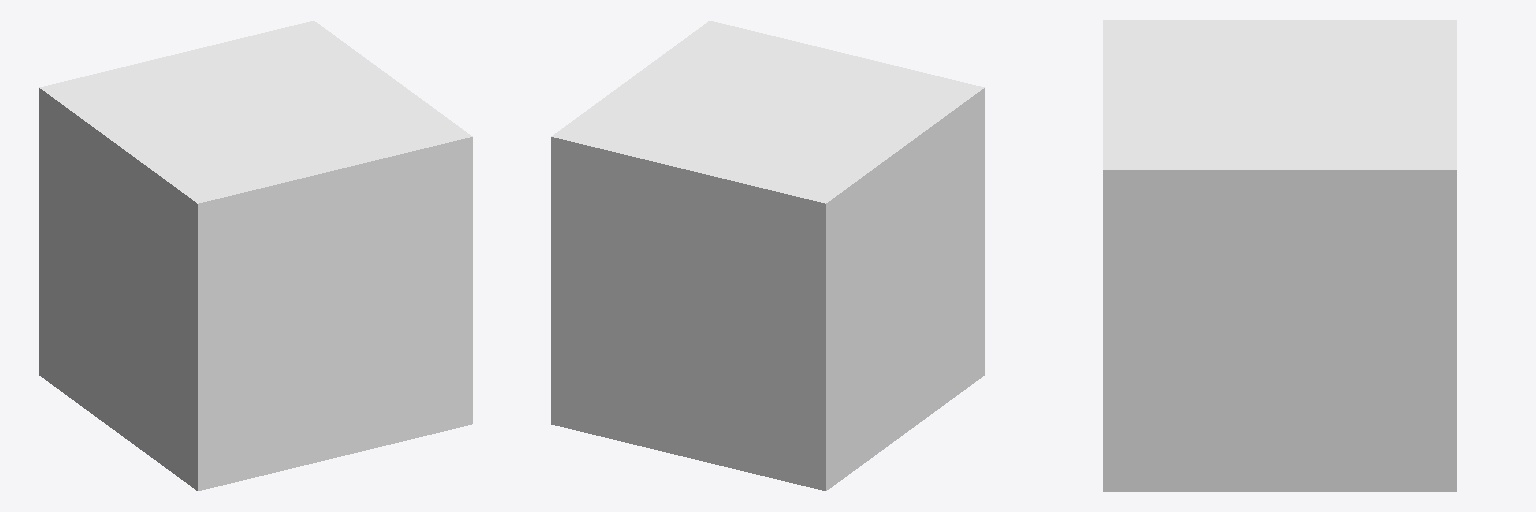
The robot description file, URDF, robot "Line_cube_bottle_preprocessed_convex":
<?xml version="1.0" ?>
<robot name="Line_cube_bottle_preprocessed_convex">
  <link name="baseLink">
    <contact>
    	<friction_anchor/>
    	   <lateral_friction value="1.0"/>
    </contact>
    <inertial>
      <origin rpy="0 0 0" xyz="0 0 0"/>
       <!-- mass controls penetration -->
       <mass value=".5"/>
       <inertia ixx="1e-4" ixy="0" ixz="0" iyy="1e-4" iyz="0" izz="1e-4"/>
    </inertial>
    <visual>
      <origin rpy="0 0 0" xyz="0 0 0"/>
      <geometry>
        <mesh filename="Line_cube_bottle_preprocessed_convex.obj"/>
      </geometry>
       <material name="white">
        <color rgba="1 1 1 1"/>
      </material>
    </visual>
    <collision>
      <origin rpy="0 0 0" xyz="0 0 0"/>
      <geometry>
        <mesh filename="Line_cube_bottle_preprocessed_convex.obj"/>
      </geometry>
    </collision>
  </link>
</robot>

--- Facts derived from the render (not from the file) ---
The picture shows the robot from 3 angles, left to right: view 1: azimuth 30°, elevation 25°; view 2: azimuth 150°, elevation 25°; view 3: azimuth 270°, elevation 25°; orthographic projection.
Robot: Line_cube_bottle_preprocessed_convex — 1 links, 0 joints (none); root link baseLink; default pose: every joint at zero.
Visible links, largest first — view 1: baseLink; view 2: baseLink; view 3: baseLink.
Boxes of the visible links, x1,y1,x2,y2 form: baseLink: [39, 21, 472, 490]; baseLink: [551, 21, 984, 490]; baseLink: [1103, 20, 1456, 491].
Size in the robot's own frame: 0.0808 by 0.0808 by 0.0808 metres.
1 mesh visuals loaded from 1 distinct referenced files (1 OBJ).